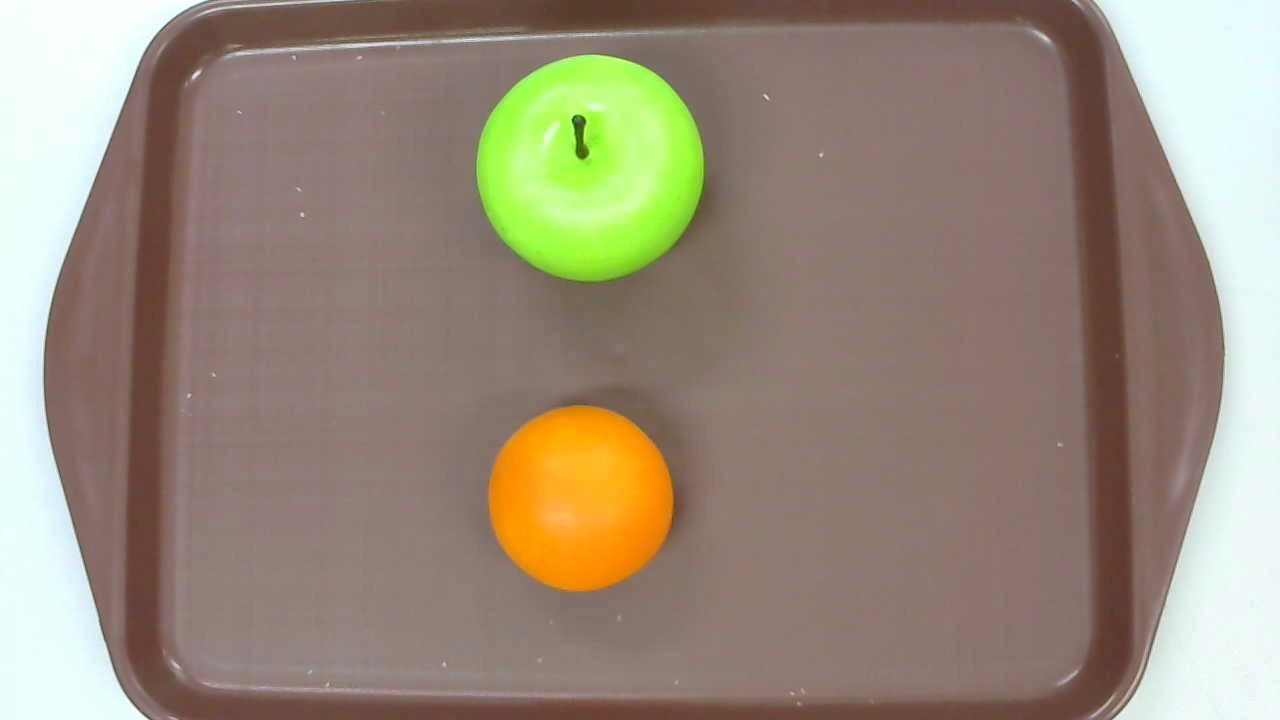bun: (487, 403, 675, 591)
green apple: (474, 54, 704, 286)
